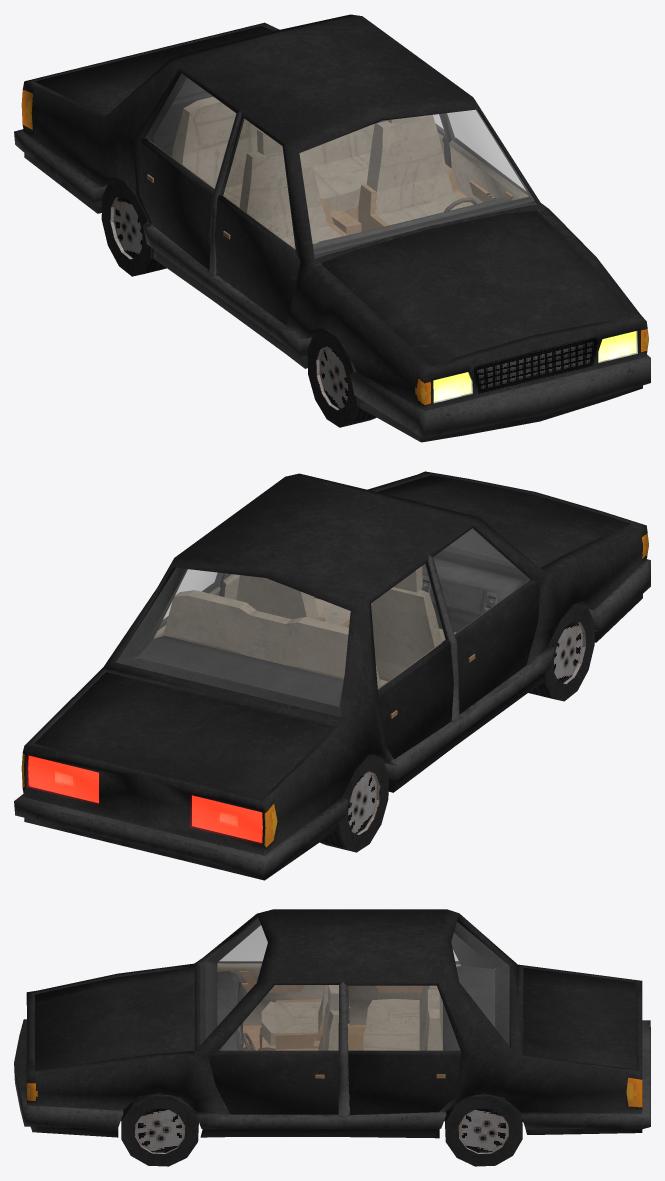
The model's file is Car4.glb.
The picture shows the model from 3 angles, top to bottom: view 1: azimuth 30°, elevation 25°; view 2: azimuth 150°, elevation 25°; view 3: azimuth 270°, elevation 25°; orthographic projection. The views are drawn at different scales.
Parts seen in each view (by area): view 1: Car_Base, car_hood, R_Door_Front, R_Door_Back, trunk, L_Door_Front, R_Wheel_Front, R_Wheel_Back; view 2: Car_Base, trunk, R_Door_Front, R_Door_Back, car_hood, R_Wheel_Back, R_Wheel_Front, L_Door_Back; view 3: Car_Base, L_Door_Front, L_Door_Back, car_hood, trunk, L_Wheel_front, L_Wheel_Back, R_Door_Front, R_Door_Back.
Part boxes in pixels (x1,y1,x2,y2): Car_Base: (14, 14, 650, 442); car_hood: (322, 210, 630, 366); R_Door_Front: (214, 118, 300, 325); R_Door_Back: (140, 74, 235, 270); trunk: (34, 26, 272, 115); L_Door_Front: (446, 110, 529, 203); R_Wheel_Front: (307, 329, 376, 427); R_Wheel_Back: (101, 179, 166, 276); Car_Base: (14, 471, 650, 880); trunk: (34, 672, 333, 798); R_Door_Front: (433, 528, 540, 714); R_Door_Back: (371, 564, 453, 758); car_hood: (377, 475, 629, 567); R_Wheel_Back: (320, 754, 388, 852); R_Wheel_Front: (528, 603, 594, 701); L_Door_Back: (154, 569, 222, 638); Car_Base: (14, 909, 650, 1138); L_Door_Front: (208, 985, 338, 1114); L_Door_Back: (347, 986, 461, 1114); car_hood: (34, 967, 195, 1070); trunk: (523, 967, 636, 1069); L_Wheel_front: (121, 1093, 198, 1166); L_Wheel_Back: (445, 1093, 522, 1166); R_Door_Front: (217, 926, 324, 1025); R_Door_Back: (348, 951, 460, 1025).
Size of the model in its own units: 1.71 by 1.48 by 4.73.
2 materials, 2 textured.
